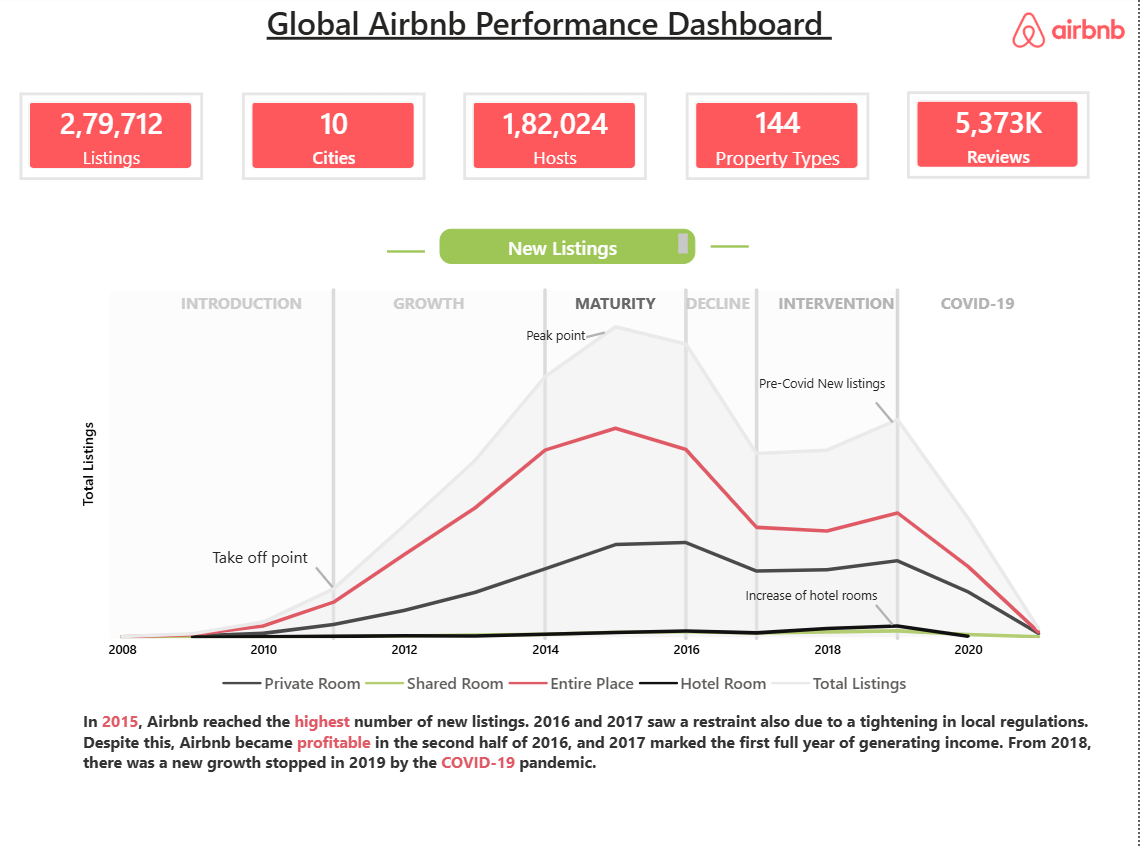

This screenshot's page, from the dashboard's own definition file:
{"tool":"powerbi","page":{"name":"Overview","canvas":[960,720],"ordinal":0},"visuals":[{"type":"textbox","box":[221.4,0,517.3,58.9],"z":0},{"type":"image","box":[842.2,14.7,117.8,29.4],"z":1000},{"type":"cardVisual","fields":{"Data":["CountNonNull(Listings.listing_id)"]},"box":[19.1,81.6,154.6,73.6],"z":2000},{"type":"cardVisual","fields":{"Data":["Count(Listings.city)"]},"box":[205.8,81.6,154.6,73.6],"z":3000},{"type":"cardVisual","fields":{"Data":["Count(Listings.host_id)"]},"box":[392.4,81.6,154.6,73.6],"z":4000},{"type":"cardVisual","fields":{"Data":["Count(Listings.property_type)"]},"box":[579.1,81.6,154.6,73.6],"z":5000},{"type":"cardVisual","fields":{"Data":["Count(Reviews.review_id)"]},"box":[765.7,81.4,153.8,73.5],"z":6000},{"type":"lineChart","fields":{"Category":["Listings.host_since.Variation.Date Hierarchy.Year"],"Y":["Listings.Private Room","Listings.Shared Room","Listings.Entire Place","Listings.Hotel Room","Count(Listings.listing_id)"]},"box":[67,235.1,826,362],"z":7000},{"type":"textbox","box":[372.3,196.7,215.3,29.7],"z":8000},{"type":"shape","box":[328.5,174.7,31.9,82.4],"z":9000},{"type":"textbox","box":[547.1,245,118.7,40.7],"z":10000},{"type":"textbox","box":[460.3,245,118.7,40.7],"z":11000},{"type":"textbox","box":[146.1,245,118.7,40.7],"z":12000},{"type":"textbox","box":[304.3,245,118.7,40.7],"z":13000},{"type":"textbox","box":[647.1,245,118.7,40.7],"z":14000},{"type":"textbox","box":[765.8,245,118.7,40.7],"z":15000},{"type":"textbox","box":[161.5,458.1,118.7,40.7],"z":16000},{"type":"textbox","box":[408.7,271.4,122,29.7],"z":17000},{"type":"textbox","box":[606.5,310.9,174.7,40.7],"z":18000},{"type":"textbox","box":[599.9,490,169.2,40.7],"z":19000},{"type":"shape","box":[267,480.1,16.5,18.7],"z":20000},{"type":"shape","box":[738.3,512,16.5,18.7],"z":21000},{"type":"shape","box":[738.3,341.7,16.5,18.7],"z":22000},{"type":"shape","box":[495.5,276.9,16.5,18.7],"z":23000},{"type":"textbox","box":[67,596.6,860.2,123],"z":24000},{"type":"shape","box":[599.9,170.3,31.9,82.4],"z":25000}]}

Visuals, with their boxes in screenshot pixels (x1, y1, x2, y2), scaled from the page's 960x720 canvas onto the 1140x846 screenshot:
textbox: 263,0,877,69
image: 1000,17,1139,52
cardVisual - CountNonNull(Listings.listing_id): 23,96,206,182
cardVisual - Count(Listings.city): 244,96,428,182
cardVisual - Count(Listings.host_id): 466,96,650,182
cardVisual - Count(Listings.property_type): 688,96,871,182
cardVisual - Count(Reviews.review_id): 909,96,1092,182
lineChart - Listings.host_since.Variation.Date Hierarchy.Year x Listings.Private Room: 80,276,1060,702
textbox: 442,231,698,266
shape: 390,205,428,302
textbox: 650,288,791,336
textbox: 547,288,688,336
textbox: 173,288,314,336
textbox: 361,288,502,336
textbox: 768,288,909,336
textbox: 909,288,1050,336
textbox: 192,538,333,586
textbox: 485,319,630,354
textbox: 720,365,928,413
textbox: 712,576,913,624
shape: 317,564,337,586
shape: 877,602,896,624
shape: 877,401,896,423
shape: 588,325,608,347
textbox: 80,701,1101,845
shape: 712,200,750,297
